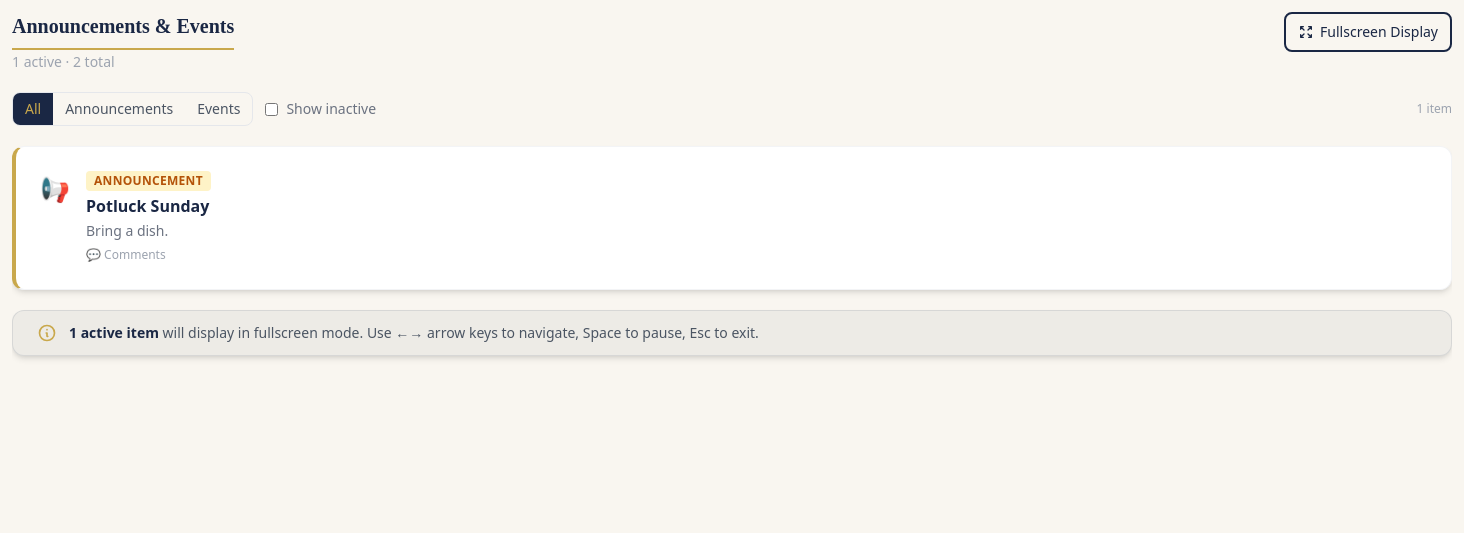
Test case: AnnouncementsView — list › inactive items are hidden until asked for
Expected: the text "Potluck Sunday" is shown, [86,195,209,217]
Expected: the text "Old notice" is not shown
Click the checkbox labelled "Show inactive": (272, 109) [265,102,278,116]
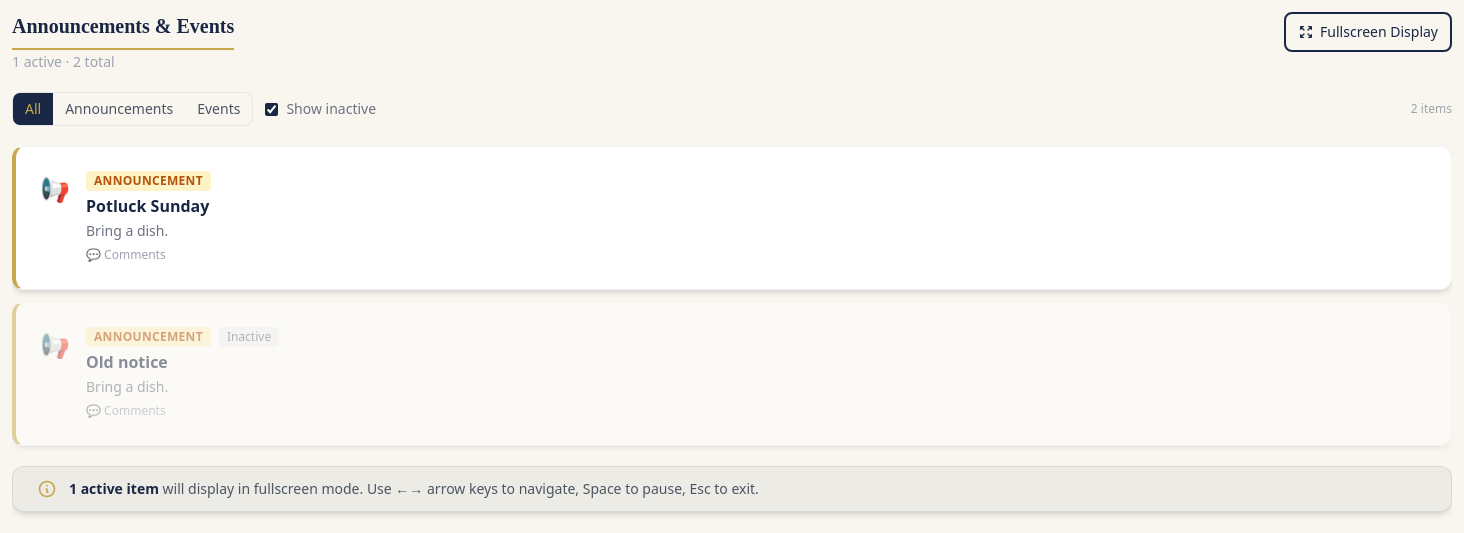
Expected: the text "Old notice" is shown, [86,351,168,373]
